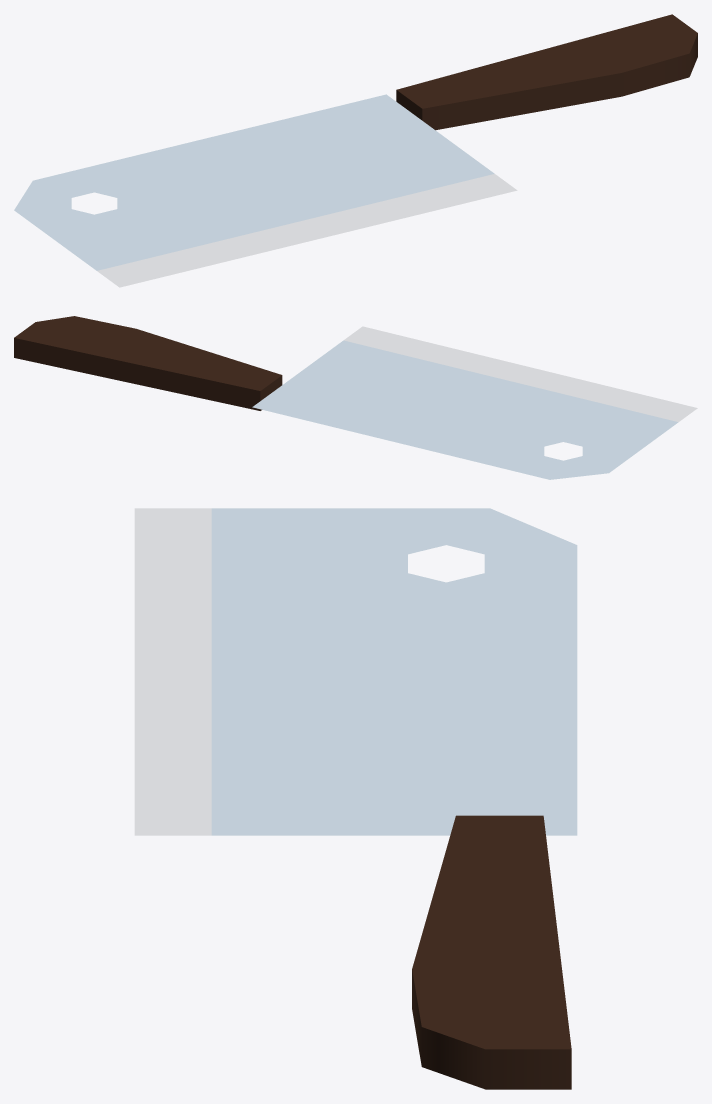
File: cleaver.glb
3 views of the same model, one above another, from view 1: azimuth 30°, elevation 25°; view 2: azimuth 150°, elevation 25°; view 3: azimuth 270°, elevation 25° (orthographic). The views are drawn at different scales.
Parts seen in each view (by area): view 1: cookingKnifeChopping; view 2: cookingKnifeChopping; view 3: cookingKnifeChopping.
Part boxes in pixels (x1=…): cookingKnifeChopping: x1=14, y1=14, x2=697, y2=287; cookingKnifeChopping: x1=14, y1=316, x2=697, y2=479; cookingKnifeChopping: x1=134, y1=508, x2=577, y2=1089.
Bounding box in the file's own units: 0.6 × 0.02 × 0.2.
